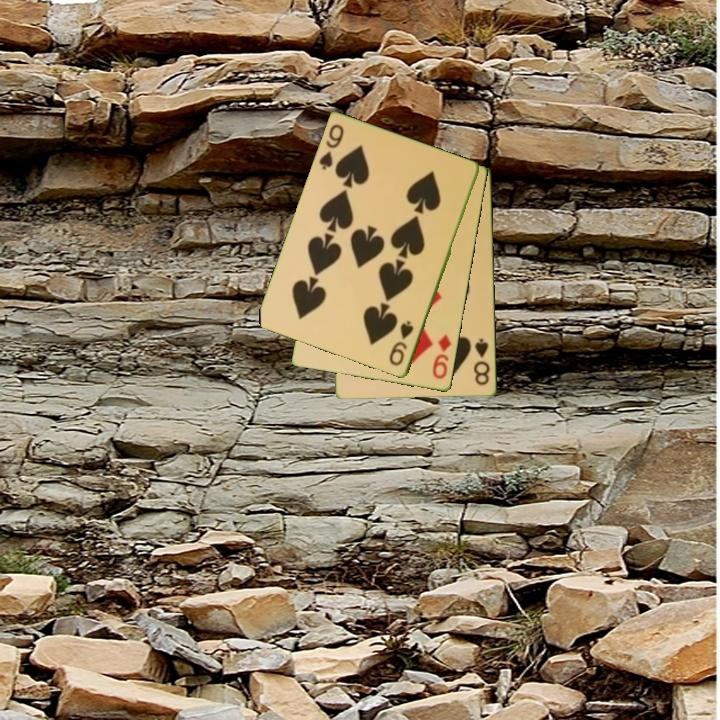8s: (470, 335, 493, 389)
9d: (429, 331, 454, 382)
9s: (386, 317, 417, 369), (316, 121, 347, 173)
